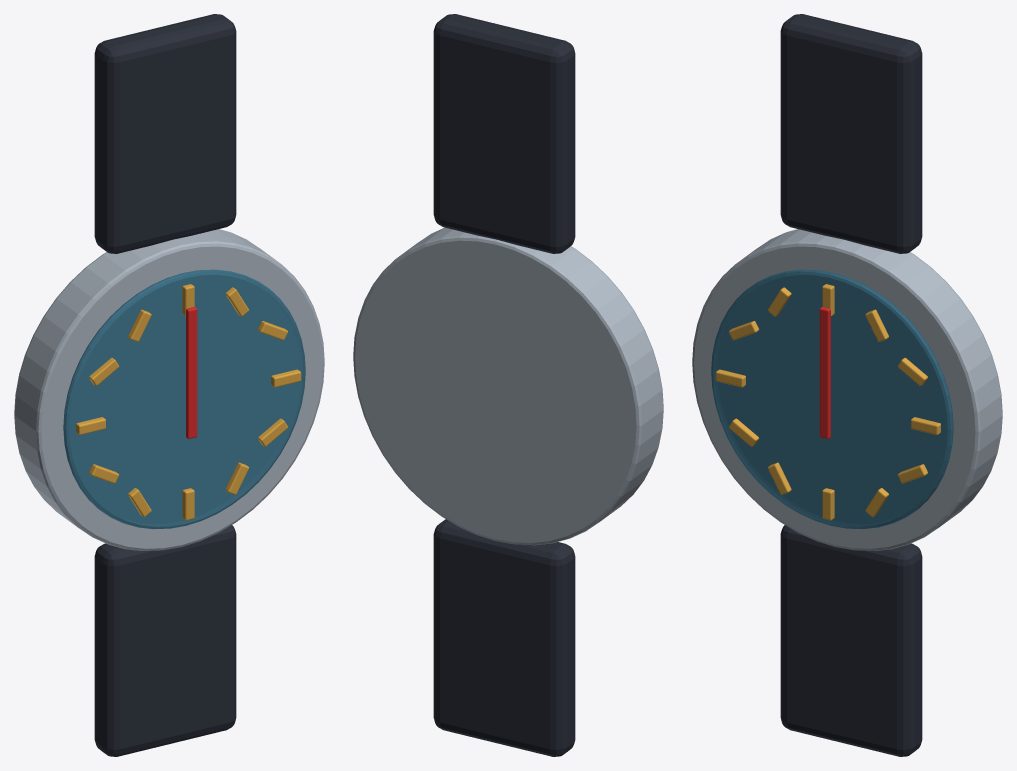
Rendered from montre-mecanique.glb.
3 renders of one model, left to right at view 1: azimuth 30°, elevation 25°; view 2: azimuth 150°, elevation 25°; view 3: azimuth 330°, elevation 25°, orthographic.
Parts seen in each view (by area): view 1: Cadran, Bracelet haut, Boitier, Bracelet bas, Aiguille; view 2: Boitier, Bracelet haut, Bracelet bas; view 3: Cadran, Bracelet haut, Boitier, Bracelet bas, Aiguille.
Part boxes in pixels (x1,y1,x2,y2): Cadran: (63, 269, 305, 529); Bracelet haut: (94, 14, 236, 253); Boitier: (14, 229, 324, 550); Bracelet bas: (94, 525, 236, 756); Aiguille: (186, 307, 197, 438); Boitier: (353, 227, 663, 545); Bracelet haut: (433, 14, 575, 253); Bracelet bas: (433, 519, 575, 756); Cadran: (711, 269, 953, 529); Bracelet haut: (780, 14, 922, 253); Boitier: (692, 229, 1002, 550); Bracelet bas: (780, 525, 922, 756); Aiguille: (819, 307, 830, 438).
Bounding box in the file's own units: 2.1 × 4.94 × 0.468.
